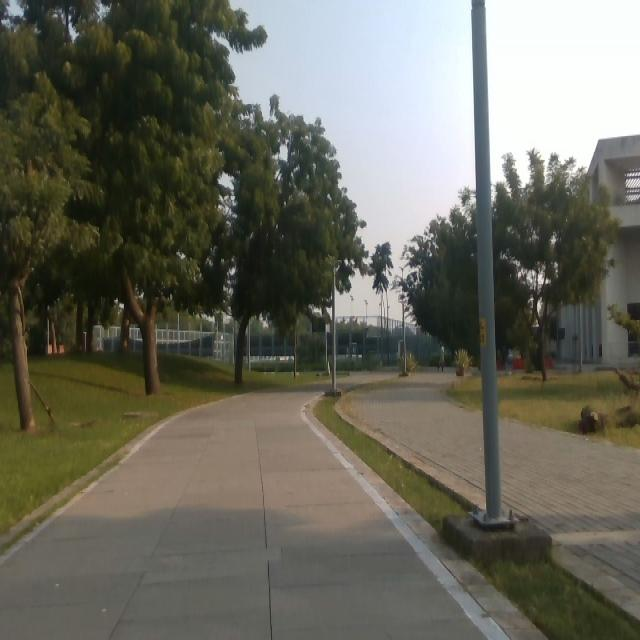lane: (1, 392, 487, 639)
